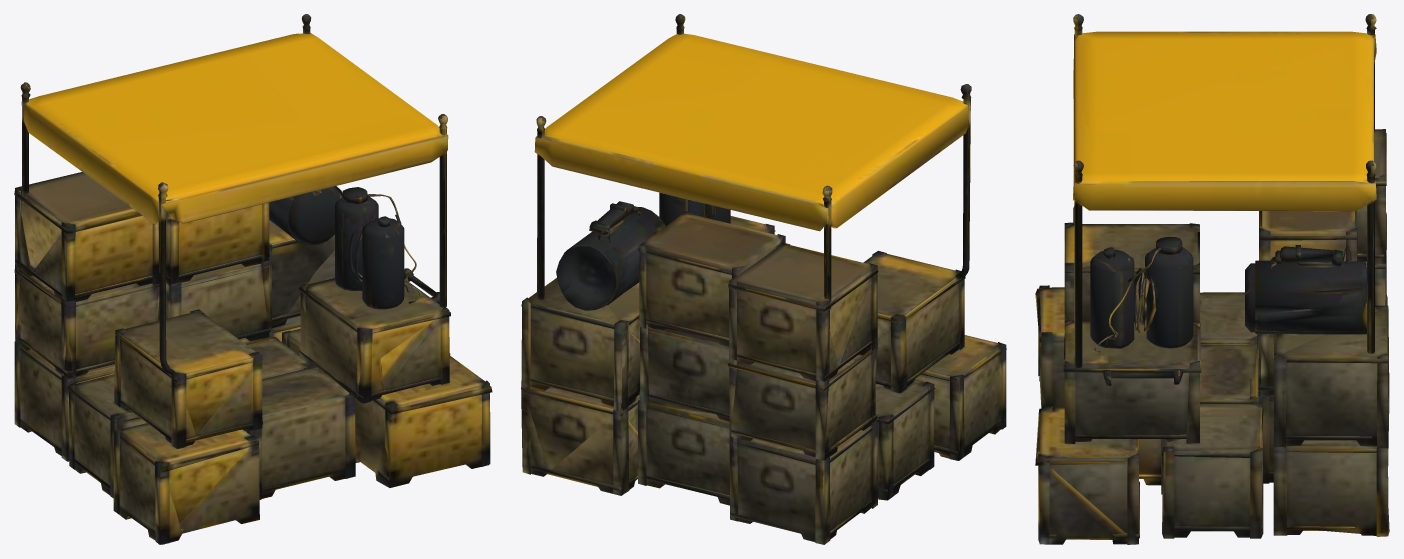
File: s_resupply.glb
3 views of the same model, side by side, from view 1: azimuth 30°, elevation 25°; view 2: azimuth 150°, elevation 25°; view 3: azimuth 270°, elevation 25° (orthographic). The views are drawn at different scales.
Bounding box in the file's own units: 0.9526 × 0.9478 × 0.8223.
1 material, 1 textured.
